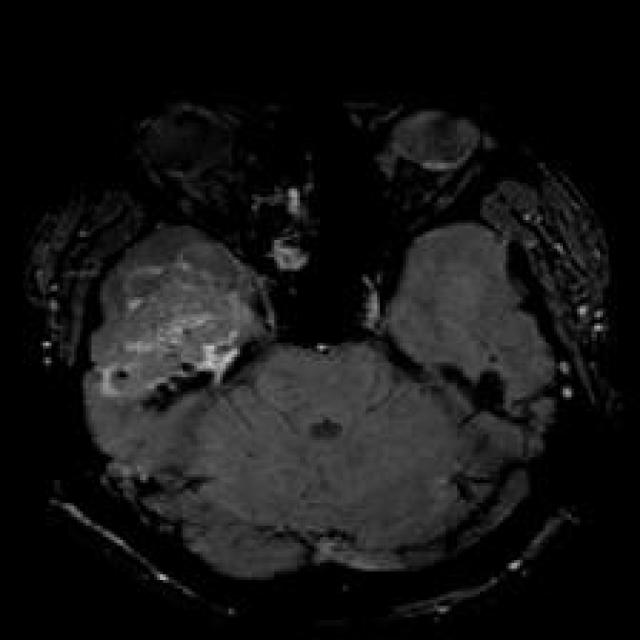glioma_tumor: (69, 228, 283, 417)
